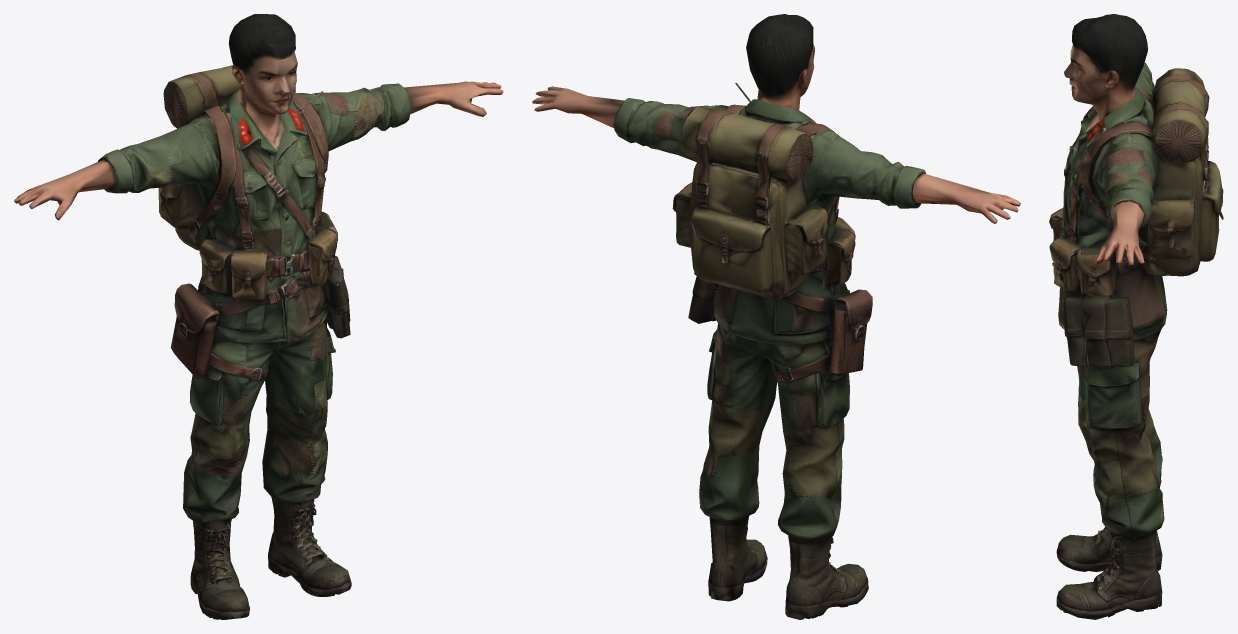
File: cuong.glb
3 views of the same model, side by side, from view 1: azimuth 30°, elevation 25°; view 2: azimuth 150°, elevation 25°; view 3: azimuth 270°, elevation 25° (orthographic).
Visible parts, largest first — view 1: tripo_node_c4e86d72-1c3c-4f96-9d4b-27a8a08bd2b3; view 2: tripo_node_c4e86d72-1c3c-4f96-9d4b-27a8a08bd2b3; view 3: tripo_node_c4e86d72-1c3c-4f96-9d4b-27a8a08bd2b3.
Boxes of the visible parts, left/top/right/bottom form: tripo_node_c4e86d72-1c3c-4f96-9d4b-27a8a08bd2b3: left=14, top=14, right=503, bottom=619; tripo_node_c4e86d72-1c3c-4f96-9d4b-27a8a08bd2b3: left=532, top=14, right=1020, bottom=619; tripo_node_c4e86d72-1c3c-4f96-9d4b-27a8a08bd2b3: left=1049, top=14, right=1223, bottom=619.
Bounding box in the file's own units: 0.8591 × 0.9771 × 0.2712.
1 material, 1 textured.
